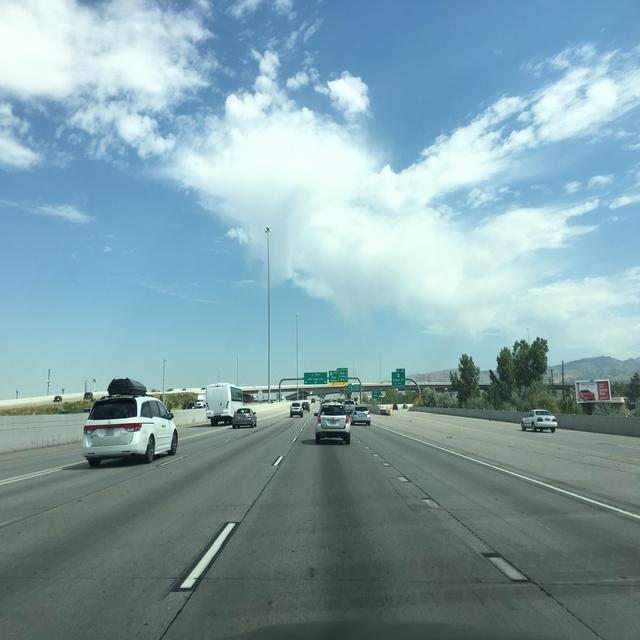Barrier: (0, 393, 89, 453), (169, 400, 291, 425), (367, 404, 527, 423), (551, 413, 639, 437)
Billboard: (575, 379, 611, 402)
Car: (53, 378, 177, 465), (290, 400, 370, 443), (181, 402, 256, 427), (521, 409, 557, 431)
Vegetation: (419, 336, 639, 415), (362, 387, 418, 407)
